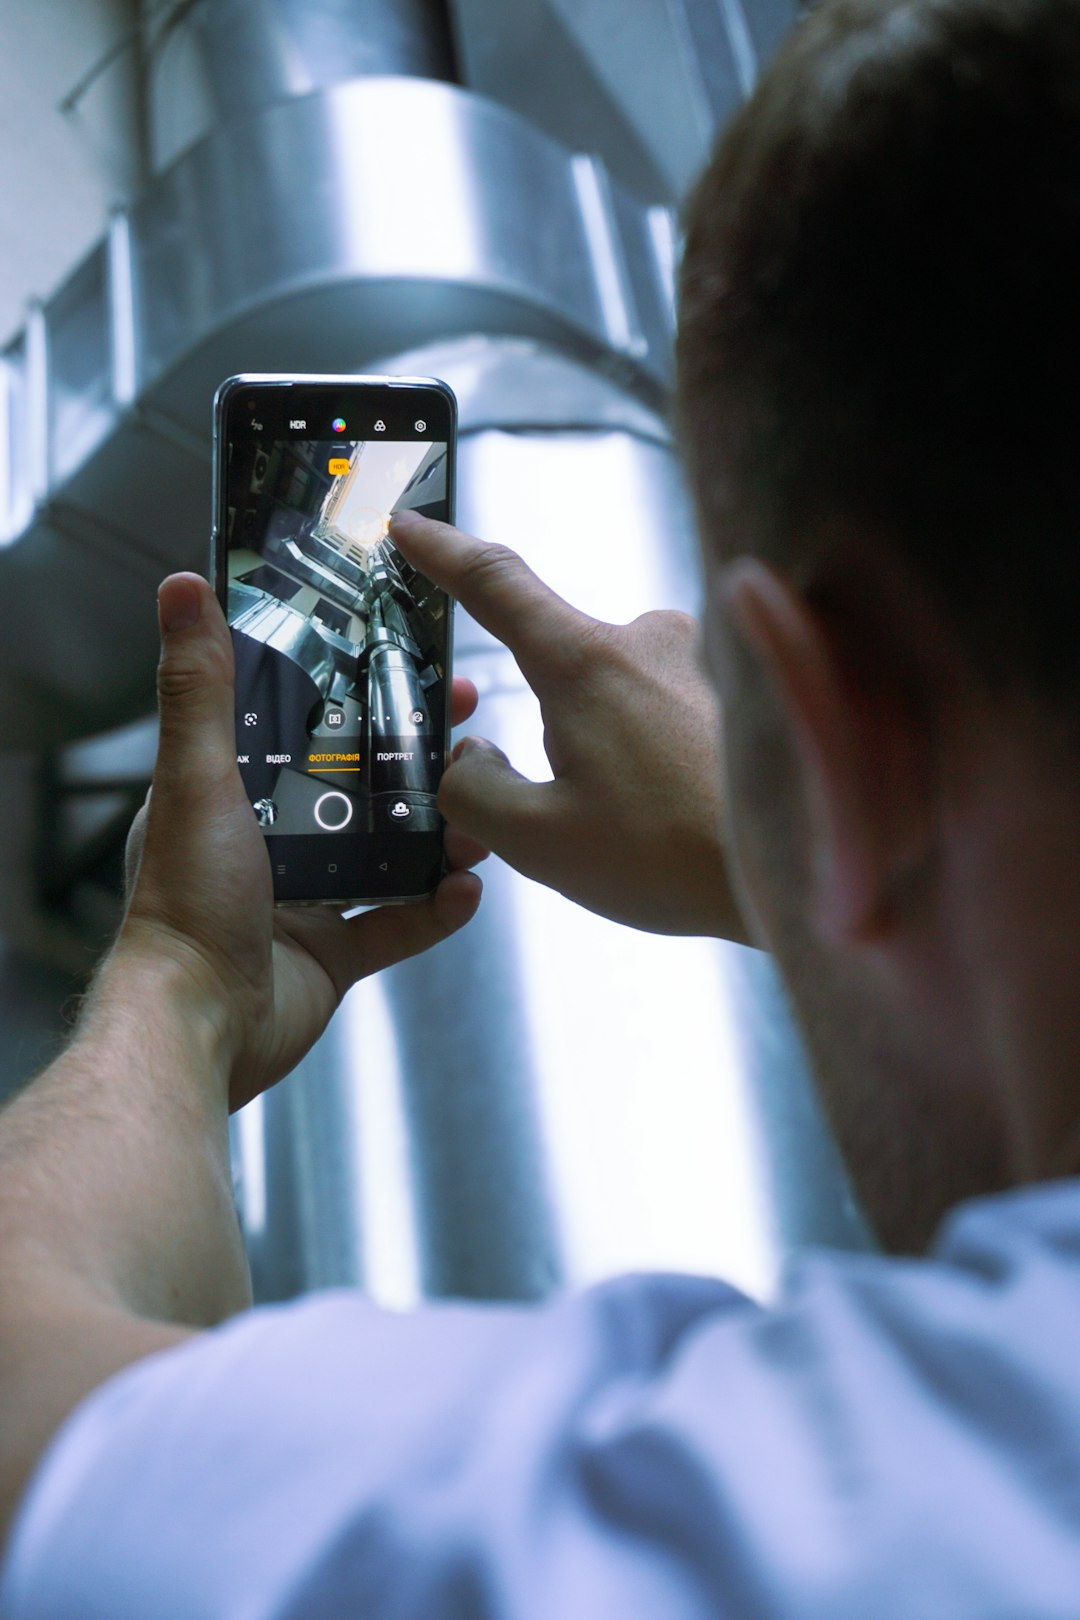phone: (190, 352, 474, 902)
